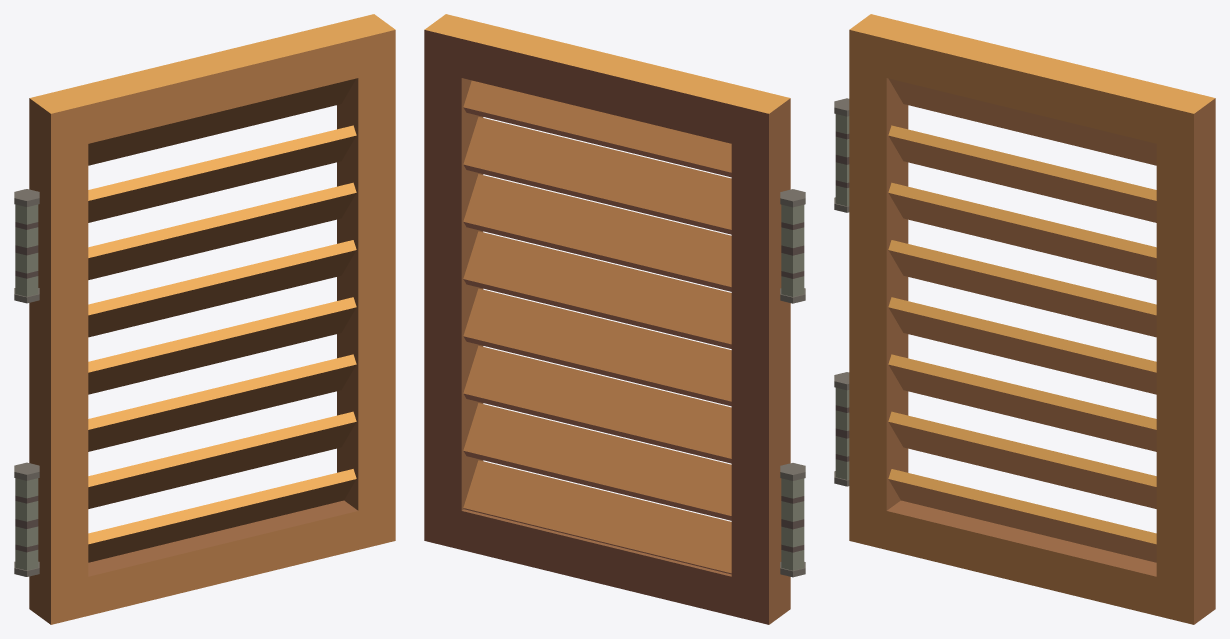
The model's file is PuertaGiratoria_A_01.FBX.
The picture shows the model from 3 angles, left to right: view 1: azimuth 30°, elevation 25°; view 2: azimuth 150°, elevation 25°; view 3: azimuth 330°, elevation 25°; orthographic projection.
Parts seen in each view (by area): view 1: SwingDoor_01; view 2: SwingDoor_01; view 3: SwingDoor_01.
Part boxes in pixels (x1,y1,x2,y2): SwingDoor_01: [14, 14, 395, 624]; SwingDoor_01: [424, 14, 805, 624]; SwingDoor_01: [834, 14, 1215, 624].
Size of the model in its own units: 64.5 by 85 by 6.5.
